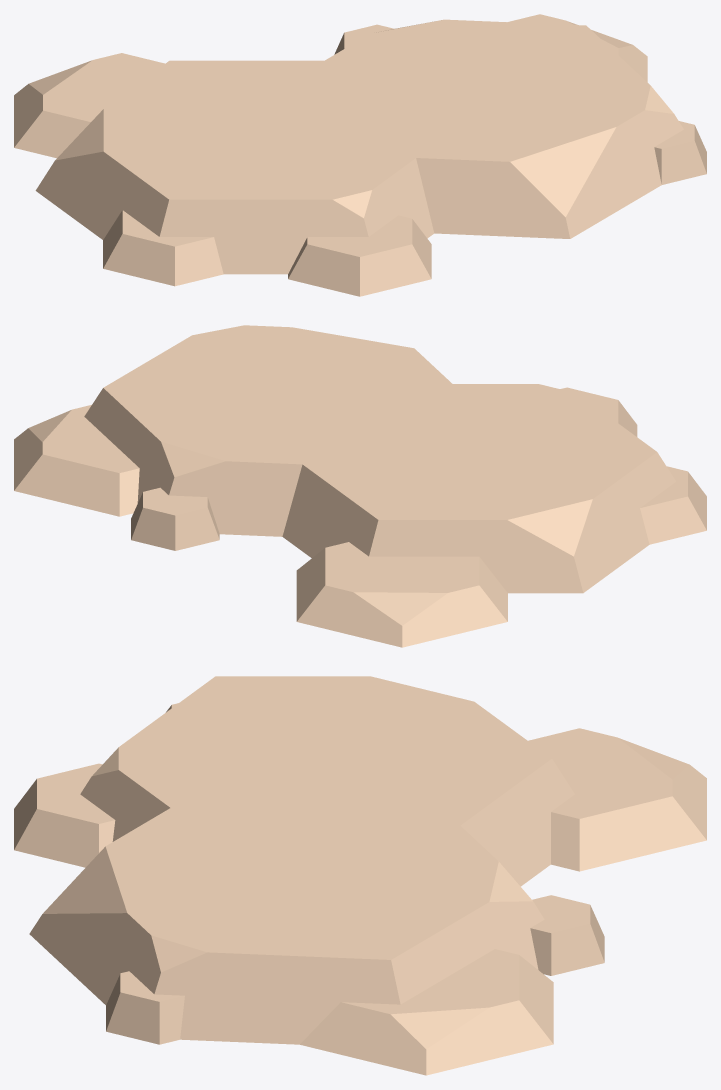
The model's file is platform_beach.dae.
The picture shows the model from 3 angles, top to bottom: view 1: azimuth 30°, elevation 25°; view 2: azimuth 150°, elevation 25°; view 3: azimuth 270°, elevation 25°; orthographic projection. The views are drawn at different scales.
Visible parts, largest first — view 1: platform_beach; view 2: platform_beach; view 3: platform_beach.
Part boxes in pixels (x1=…): platform_beach: x1=14, y1=14, x2=706, y2=296; platform_beach: x1=14, y1=325, x2=706, y2=647; platform_beach: x1=14, y1=676, x2=706, y2=1075.
Bounding box in the file's own units: 0.8932 × 0.0825 × 0.7239.
